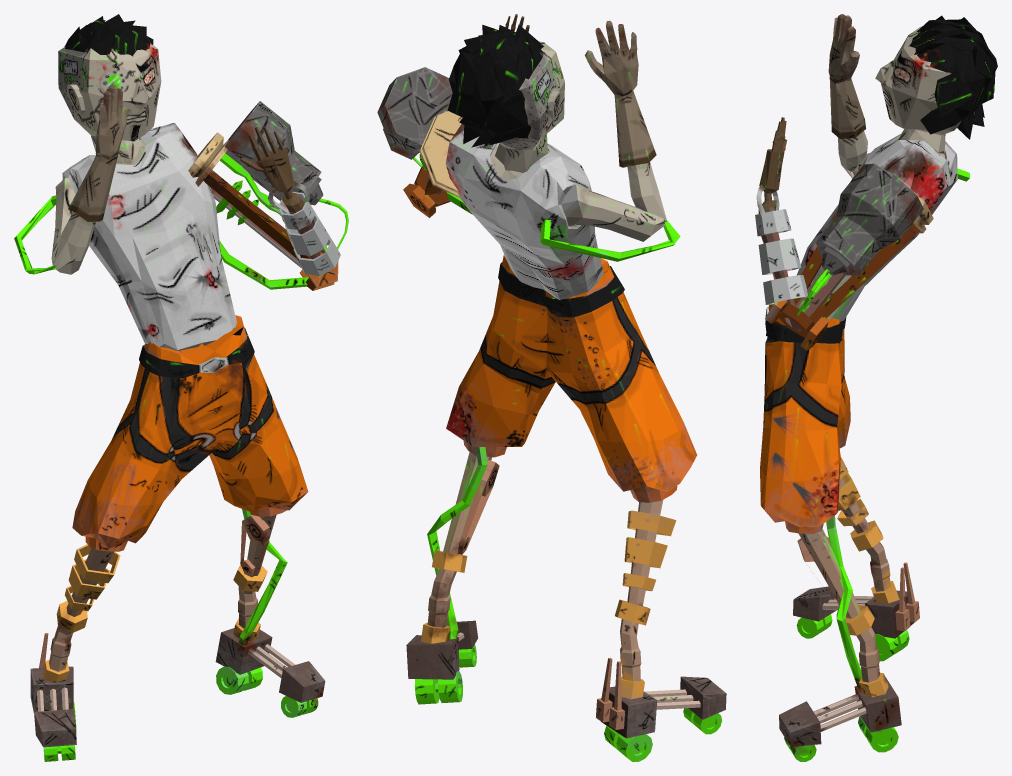
Rendered from CyborgFINALAnimation_000018.obj.
3 views of the same model, side by side, from view 1: azimuth 30°, elevation 25°; view 2: azimuth 150°, elevation 25°; view 3: azimuth 270°, elevation 25° (orthographic). The views are drawn at different scales.
Visible parts, largest first — view 1: CyborgMesh_Cube.002; view 2: CyborgMesh_Cube.002; view 3: CyborgMesh_Cube.002.
Part boxes in pixels (<box>): CyborgMesh_Cube.002: <box>14,14,348,761</box>; CyborgMesh_Cube.002: <box>377,14,726,761</box>; CyborgMesh_Cube.002: <box>755,14,997,761</box>.
Size of the model in its own units: 4.37 by 9.13 by 2.97.
